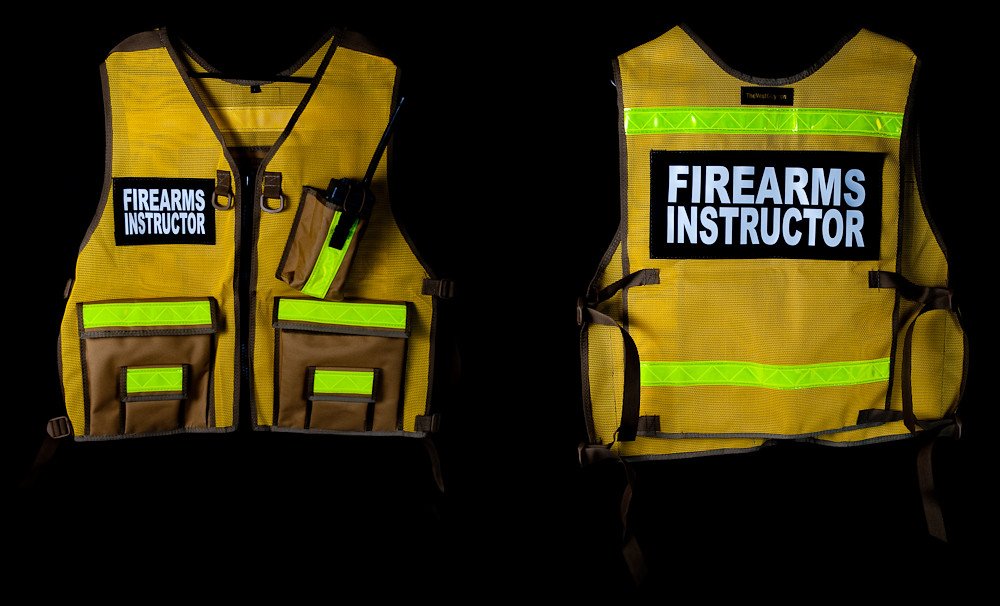Reflective vest: (580, 12, 964, 460), (56, 21, 442, 442)
